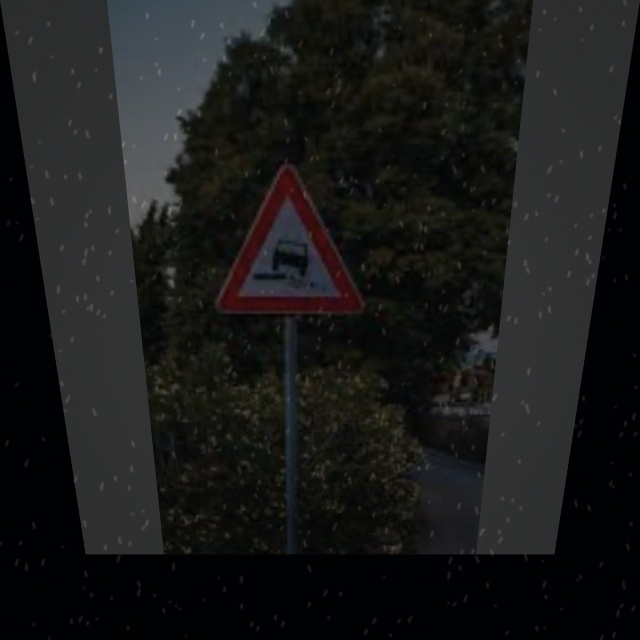Loose_Gravel: (219, 169, 362, 313)
